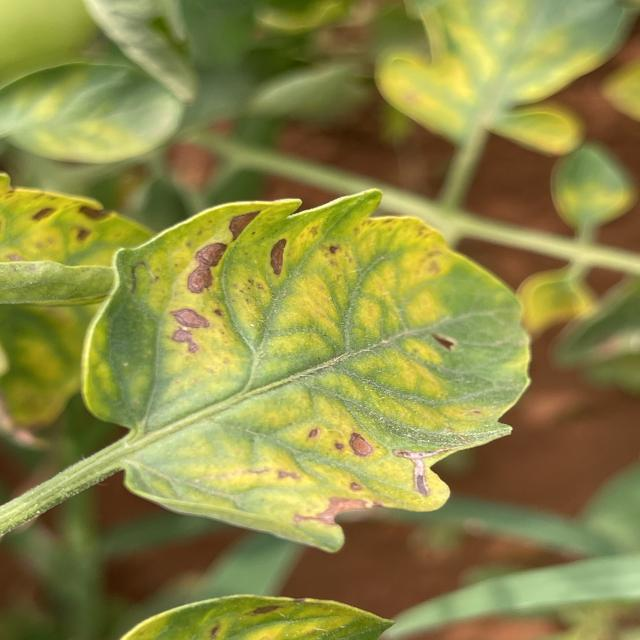tomato_early blight: (81, 183, 534, 552), (0, 164, 160, 426), (381, 0, 640, 161), (0, 57, 187, 165), (551, 142, 639, 238)
